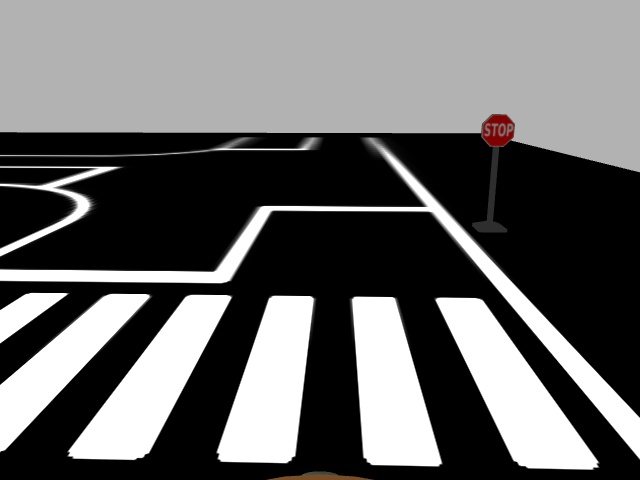stop: (478, 112, 517, 149)
